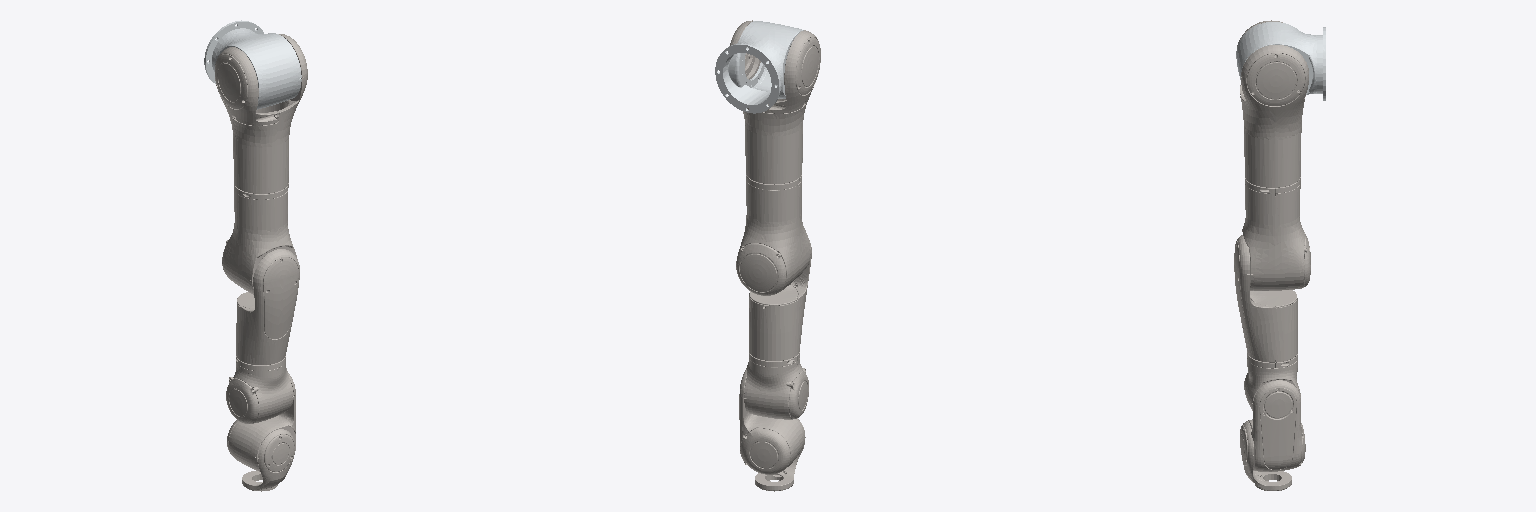
robot.urdf — right_arm:
<?xml version="1.0" encoding="utf-8"?>
<robot name="right_arm">
  <link name="base_link">
  </link>
  <link name="rlink1">
    <inertial>
      <origin xyz="-2.08280310354247E-06 0.00161949059941522 0.0627032006634779" rpy="0 0 0" />
      <mass value="3.28000" />
      <inertia ixx="0.00188157196552088" ixy="-2.40135238962875E-08" ixz="-5.75831914604761E-08" iyy="0.00231576080757162" iyz="-0.00010018155567541" izz="0.00157852292049741" />
    </inertial>
    <visual>
      <origin xyz="0 0 0" rpy="0 0 0" />
      <geometry>
        <mesh filename="package://ia_robot_unlimted/meshes/rlink1.STL" />
      </geometry>
      <material name="">
        <color rgba="0.898039215686275 0.917647058823529 0.929411764705882 1" />
      </material>
    </visual>
    <collision>
      <origin xyz="0 0 0" rpy="0 0 0" />
      <geometry>
        <mesh filename="package://ia_robot_unlimted/meshes/rlink1.STL" />
      </geometry>
    </collision>
  </link>
  <joint name="rjoint1" type="revolute">
    <origin xyz="0 -0.159 0.24" rpy="1.57079632679489 1.5707963267949 0" />
    <parent link="base_link" />
    <child link="rlink1" />
    <axis xyz="0 0 1" />
    <limit lower="-3.14" upper="3.14" effort="300" velocity="1" />
  </joint>
  <link name="rlink2">
    <inertial>
      <origin xyz="-2.4763208496148E-05 -0.0643600565059896 5.32515726273976E-06" rpy="0 0 0" />
      <mass value="2.69000" />
      <inertia ixx="0.0152922453131272" ixy="-3.70768021163177E-06" ixz="3.83973821996791E-08" iyy="0.00699323097176175" iyz="-0.00291573896285968" izz="0.0160952128008031" />
    </inertial>
    <visual>
      <origin xyz="0 0 0" rpy="0 0 0" />
      <geometry>
        <mesh filename="package://ia_robot_unlimted/meshes/rlink2.STL" />
      </geometry>
      <material name="">
        <color rgba="0.776470588235294 0.756862745098039 0.737254901960784 1" />
      </material>
    </visual>
    <collision>
      <origin xyz="0 0 0" rpy="0 0 0" />
      <geometry>
        <mesh filename="package://ia_robot_unlimted/meshes/rlink2.STL" />
      </geometry>
    </collision>
  </link>
  <joint name="rjoint2" type="revolute">
    <origin xyz="0 0 0.0850000000000001" rpy="-3.14159265358975 1.48352986419518 -1.57079632679486" />
    <parent link="rlink1" />
    <child link="rlink2" />
    <axis xyz="0 0 1" />
    <limit lower="-3.14" upper="0.1" effort="200" velocity="1" />
  </joint>
  <link name="rlink3">
    <inertial>
      <origin xyz="-0.000247912578623406 -0.00283725409224228 0.0971926215675121" rpy="0 0 0" />
      <mass value="2.59629388364196" />
      <inertia ixx="0.00896060320154467" ixy="5.09932382001823E-05" ixz="-1.38447535734707E-05" iyy="0.00953944543862587" iyz="-0.000158495893629265" izz="0.00464373379449821" />
    </inertial>
    <visual>
      <origin xyz="0 0 0" rpy="0 0 0" />
      <geometry>
        <mesh filename="package://ia_robot_unlimted/meshes/rlink3.STL" />
      </geometry>
      <material name="">
        <color rgba="0.776470588235294 0.756862745098039 0.737254901960784 1" />
      </material>
    </visual>
    <collision>
      <origin xyz="0 0 0" rpy="0 0 0" />
      <geometry>
        <mesh filename="package://ia_robot_unlimted/meshes/rlink3.STL" />
      </geometry>
    </collision>
  </link>
  <joint name="rjoint3" type="revolute">
    <origin xyz="0 -0.224999999999999 0" rpy="-1.57079632679498 -1.48352986419518 -3.14159265358971" />
    <parent link="rlink2" />
    <child link="rlink3" />
    <axis xyz="0 0 1" />
    <limit lower="-3.14" upper="3.14" effort="200" velocity="1" />
  </joint>
  <link name="rlink4">
    <inertial>
      <origin xyz="-0.0800785511634325 5.13879548798973E-06 -0.013492208405962" rpy="0 0 0" />
      <mass value="1.800" />
      <inertia ixx="0.00317428178212875" ixy="-2.3223910910558E-07" ixz="-0.00158267658114894" iyy="0.00775114084358154" iyz="-1.6718177668853E-07" izz="0.00820069758730051" />
    </inertial>
    <visual>
      <origin xyz="0 0 0" rpy="0 0 0" />
      <geometry>
        <mesh filename="package://ia_robot_unlimted/meshes/rlink4.STL" />
      </geometry>
      <material name="">
        <color rgba="0.776470588235294 0.756862745098039 0.737254901960784 1" />
      </material>
    </visual>
    <collision>
      <origin xyz="0 0 0" rpy="0 0 0" />
      <geometry>
        <mesh filename="package://ia_robot_unlimted/meshes/rlink4.STL" />
      </geometry>
    </collision>
  </link>
  <joint name="rjoint4" type="revolute">
    <origin xyz="0.00359517438834202 0.0410930312962845 0.145" rpy="-1.4707963267949 1.5707963267949 0" />
    <parent link="rlink3" />
    <child link="rlink4" />
    <axis xyz="0 0 1" />
    <limit lower="-2.2" upper="2.2" effort="200" velocity="1" />
  </joint>
  <link name="rlink5">
    <inertial>
      <origin xyz="0.00266045029177781 -0.000234540555031588 0.0439583915881141" rpy="0 0 0" />
      <mass value="1.50318201927913" />
      <inertia ixx="0.00217663469287259" ixy="-2.35312922226708E-05" ixz="-6.20645977511597E-05" iyy="0.00190983975291487" iyz="5.36427463732566E-06" izz="0.00156524567800616" />
    </inertial>
    <visual>
      <origin xyz="0 0 0" rpy="0 0 0" />
      <geometry>
        <mesh filename="package://ia_robot_unlimted/meshes/rlink5.STL" />
      </geometry>
      <material name="">
        <color rgba="0.776470588235294 0.756862745098039 0.737254901960784 1" />
      </material>
    </visual>
    <collision>
      <origin xyz="0 0 0" rpy="0 0 0" />
      <geometry>
        <mesh filename="package://ia_robot_unlimted/meshes/rlink5.STL" />
      </geometry>
    </collision>
  </link>
  <joint name="rjoint5" type="revolute">
    <origin xyz="-0.186499999999999 0 -0.0412499999999999" rpy="1.5707963267949 0.000 -1.5707963267949" />
    <parent link="rlink4" />
    <child link="rlink5" />
    <axis xyz="0 0 1" />
    <limit lower="-3.14" upper="3.14" effort="100" velocity="1" />
  </joint>
  <link name="rlink6">
    <inertial>
      <origin xyz="0.00216965532390774 0.0694646027094146 0.0215302951828984" rpy="0 0 0" />
      <mass value="1.6410575801377" />
      <inertia ixx="0.00404335825498938" ixy="-9.87105376458413E-05" ixz="6.26738467485885E-05" iyy="0.00197198282862732" iyz="0.000723539882508139" izz="0.00371776982636216" />
    </inertial>
    <visual>
      <origin xyz="0 0 0" rpy="0 0 0" />
      <geometry>
        <mesh filename="package://ia_robot_unlimted/meshes/rlink6.STL" />
      </geometry>
      <material name="">
        <color rgba="0.776470588235294 0.756862745098039 0.737254901960784 1" />
      </material>
    </visual>
    <collision>
      <origin xyz="0 0 0" rpy="0 0 0" />
      <geometry>
        <mesh filename="package://ia_robot_unlimted/meshes/rlink6.STL" />
      </geometry>
    </collision>
  </link>
  <joint name="rjoint6" type="revolute">
    <origin xyz="0 0 0.0594999999999999" rpy="1.5707963267949 0 1.48352986419518" />
    <parent link="rlink5" />
    <child link="rlink6" />
    <axis xyz="0 0 1" />
    <limit lower="-1.4" upper="1.4" effort="100" velocity="1" />
  </joint>
  <link name="rlink7">
    <inertial>
      <origin xyz="0.0358578517961456 9.61380048902782E-08 0.0265888368273027" rpy="0 0 0" />
      <mass value="0.16" />
      <inertia ixx="0.000516426130136875" ixy="3.02840105537652E-09" ixz="0.000293961357992134" iyy="0.00091674778940183" iyz="-3.65792094178381E-09" izz="0.000855256582554781" />
    </inertial>
    <visual>
      <origin xyz="0 0 0" rpy="0 0 0" />
      <geometry>
        <mesh filename="package://ia_robot_unlimted/meshes/rlink7.STL" />
      </geometry>
      <material name="">
        <color rgba="0.776470588235294 0.756862745098039 0.737254901960784 1" />
      </material>
    </visual>
    <collision>
      <origin xyz="0 0 0" rpy="0 0 0" />
      <geometry>
        <mesh filename="package://ia_robot_unlimted/meshes/rlink7.STL" />
      </geometry>
    </collision>
  </link>
  <joint name="rjoint7" type="revolute">
    <origin xyz="0 0.0950000000000004 0" rpy="1.5707963267949 0 1.5707963267949" />
    <parent link="rlink6" />
    <child link="rlink7" />
    <axis xyz="0 0 1" />
    <limit lower="-1.65" upper="0.65" effort="100" velocity="1" />
  </joint>

  <joint name="rjoint8" type="fixed">
    <origin xyz="0.0765000000000002 0 0.000368852459016442" rpy="-1.5007963267949 0 0" />
    <parent link="rlink7" />
    <child link="ee_link" />
  </joint>
  <link name="ee_link">
    <inertial>
      <origin xyz="0.260863782297582 0.241513971664168 0.0344885319982632" rpy="-1.5007963267949 0 0" />
      <mass value="0.0001" />
      <inertia ixx="1.77525561757236E-09" ixy="1.77525561757236E-09" ixz="1.77525561757236E-09" iyy="1.77525561757236E-09" iyz="1.77525561757236E-09" izz="1.77525561757236E-09" />
    </inertial>
  </link>
</robot>

--- Render facts (derived) ---
Views: 3 orthographic renders of the robot side by side, from view 1: azimuth 30°, elevation 25°; view 2: azimuth 150°, elevation 25°; view 3: azimuth 270°, elevation 25°.
Robot: right_arm — 9 links, 8 joints (7 revolute, 1 fixed); root link base_link; default pose: every joint at zero.
Links seen in each view (by area): view 1: rlink2, rlink4, rlink3, rlink1, rlink5, rlink6, rlink7; view 2: rlink2, rlink3, rlink1, rlink4, rlink6, rlink5, rlink7; view 3: rlink2, rlink3, rlink4, rlink6, rlink1, rlink7, rlink5.
Link boxes in pixels (x1,y1,x2,y2): rlink2: (215, 34, 307, 193); rlink4: (236, 249, 299, 370); rlink3: (222, 183, 296, 294); rlink1: (204, 20, 301, 109); rlink5: (226, 362, 293, 423); rlink6: (227, 373, 295, 471); rlink7: (242, 429, 294, 491); rlink2: (730, 20, 820, 184); rlink3: (736, 175, 810, 295); rlink1: (715, 21, 803, 113); rlink4: (749, 238, 811, 366); rlink6: (739, 368, 804, 474); rlink5: (744, 358, 808, 419); rlink7: (755, 418, 805, 491); rlink2: (1237, 20, 1308, 187); rlink3: (1242, 177, 1310, 290); rlink4: (1234, 235, 1297, 368); rlink6: (1248, 380, 1305, 471); rlink1: (1236, 22, 1325, 100); rlink7: (1240, 421, 1291, 490); rlink5: (1244, 358, 1300, 410).
Size in the robot's own frame: 0.1407 by 0.1555 by 0.85 metres.
7 mesh visuals loaded from 7 distinct referenced files (7 binary STL).